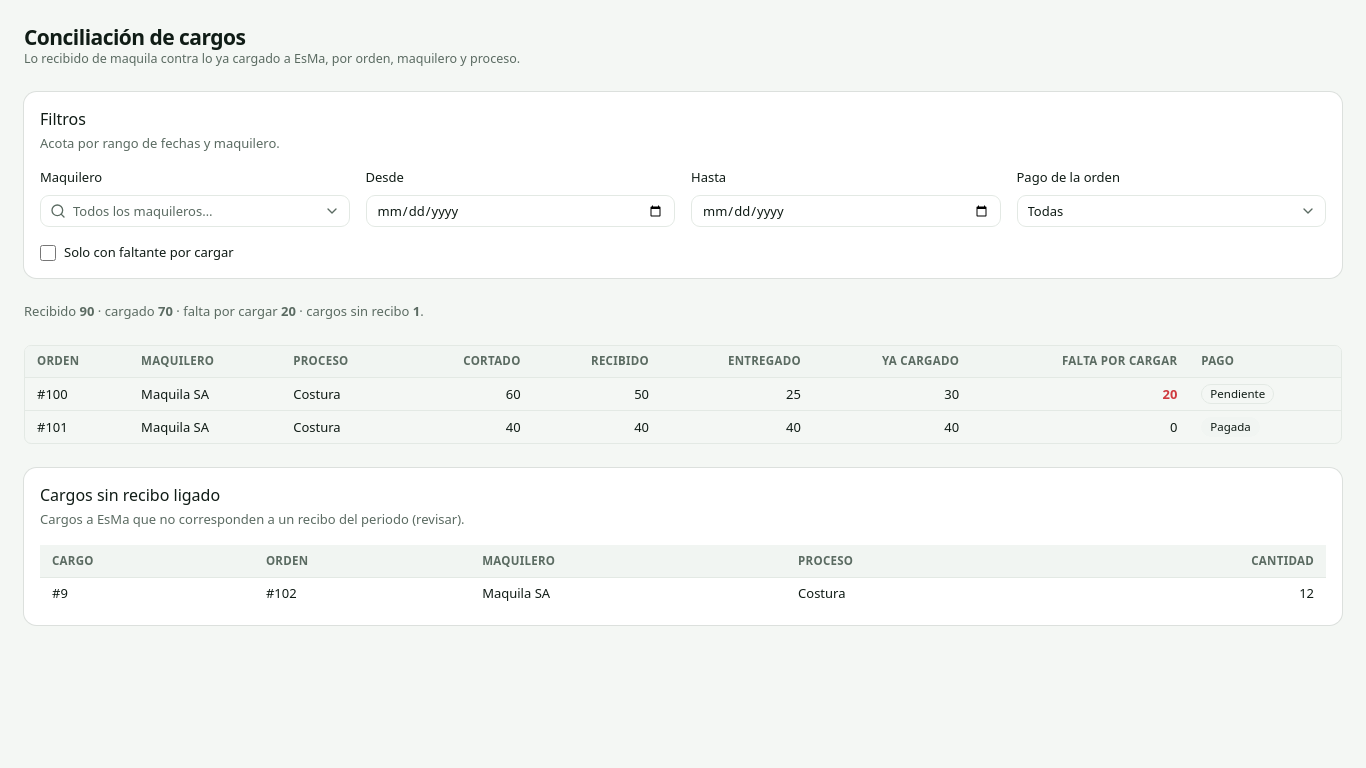
Test: ConciliacionCargosPagina (F6-E4) › el filtro "solo con faltante" oculta los renglones al día
What coordinates should you click on to do the following:
click the checkbox with test id "conc-solo-faltantes"
I would click on:
 (48, 252)
Its box is [40, 244, 56, 260].
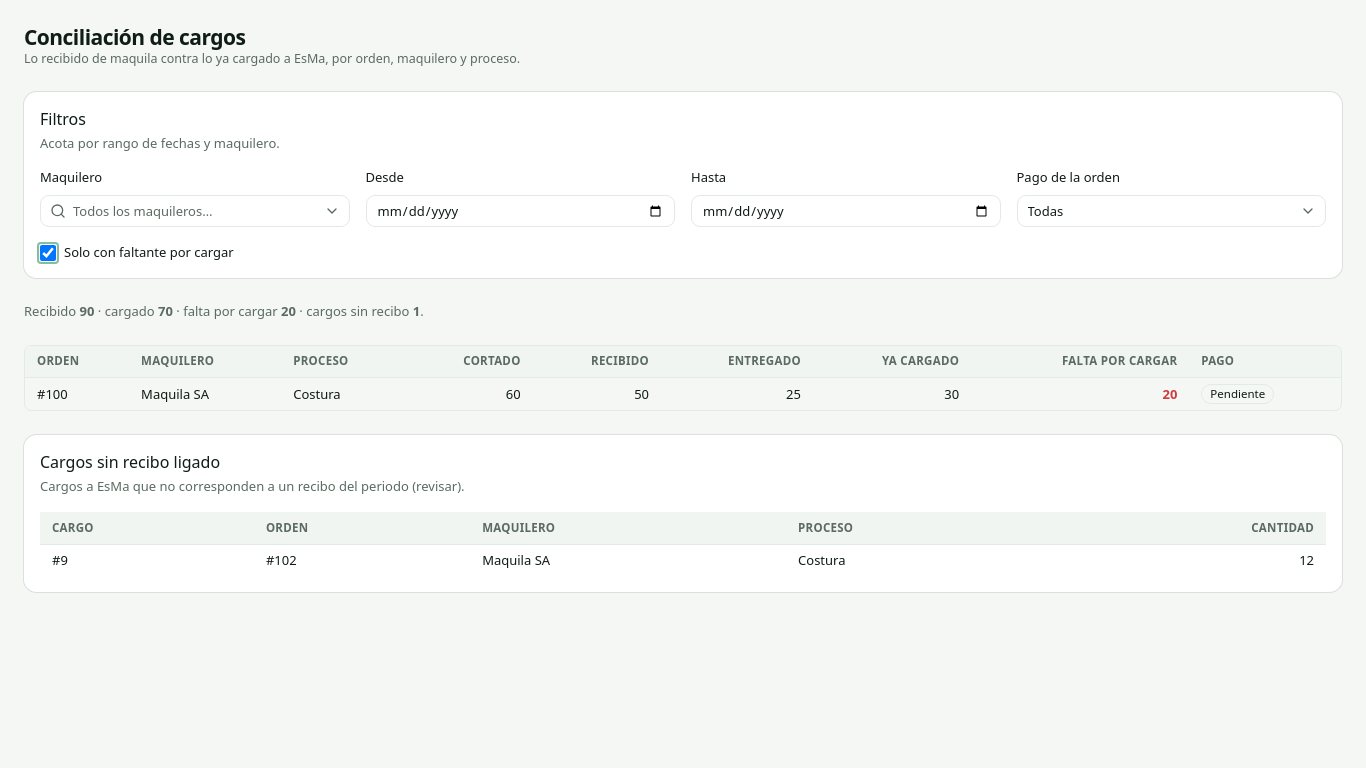
Expected: the text "#100" is shown, [25, 378, 129, 410]
Now the text "Costura" is shown once, box [281, 378, 405, 410]
Now the text "#101" is gone
